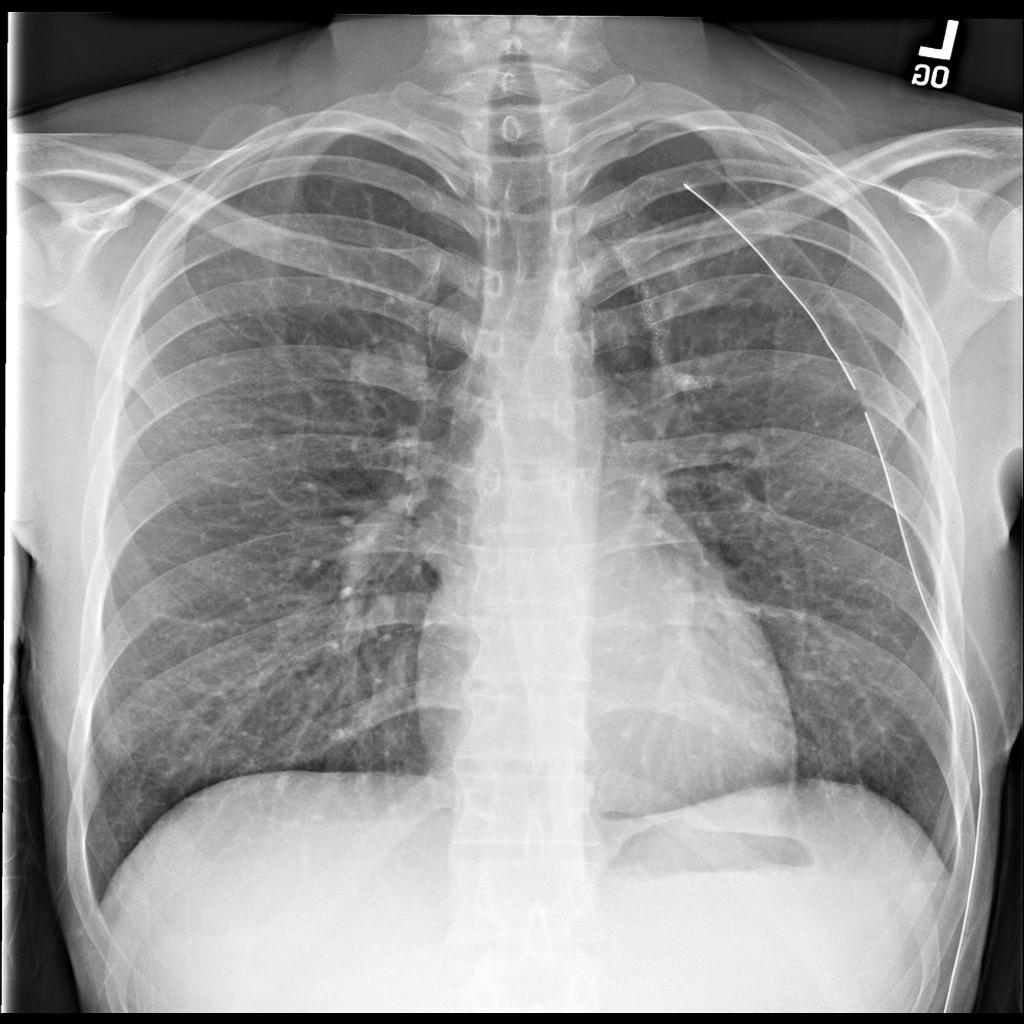Nodule: (341, 325, 440, 417)
